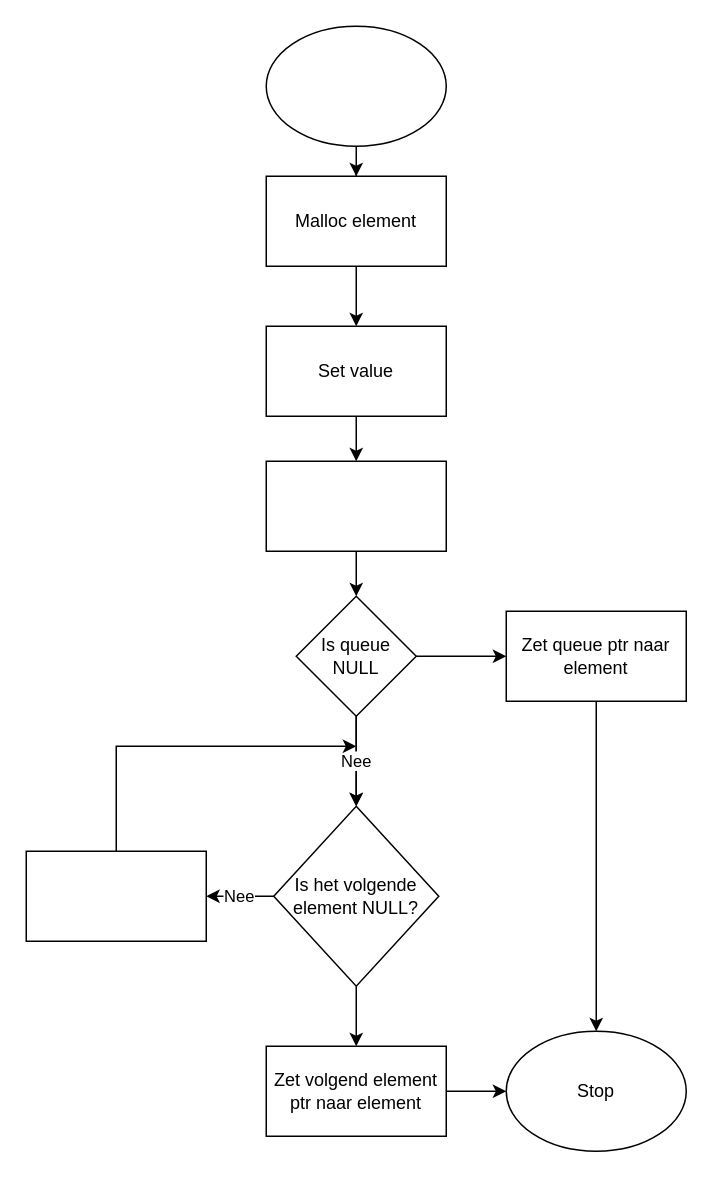
The diagram is 713 pixels wide and 1178 high, and some of its shapes have lost their labels. The box of each missing label's shape, as (x1, y1, x2, y2) in pixels:
Ga naar volgend element: (25, 850, 206, 941)
Set volgend element op NULL: (265, 460, 446, 551)
start: (265, 25, 446, 146)
